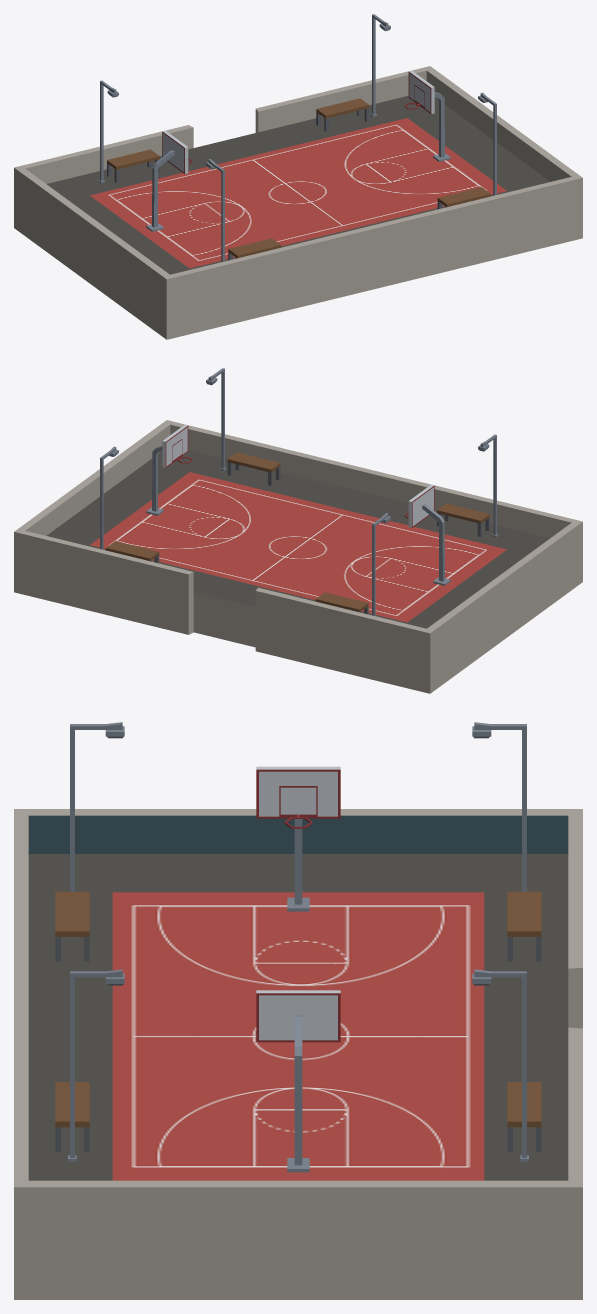
File: Building_Basketball_Court.fbx
The picture shows the model from 3 angles, top to bottom: view 1: azimuth 30°, elevation 25°; view 2: azimuth 150°, elevation 25°; view 3: azimuth 270°, elevation 25°; orthographic projection. The views are drawn at different scales.
Visible parts, largest first — view 1: Building_Basketball_Court; view 2: Building_Basketball_Court; view 3: Building_Basketball_Court.
Part boxes in pixels (left/top/right/bottom): Building_Basketball_Court: left=14, top=14, right=582, bottom=339; Building_Basketball_Court: left=14, top=368, right=582, bottom=693; Building_Basketball_Court: left=14, top=722, right=582, bottom=1299.
Bounding box in the file's own units: 1903 × 620 × 1210.
